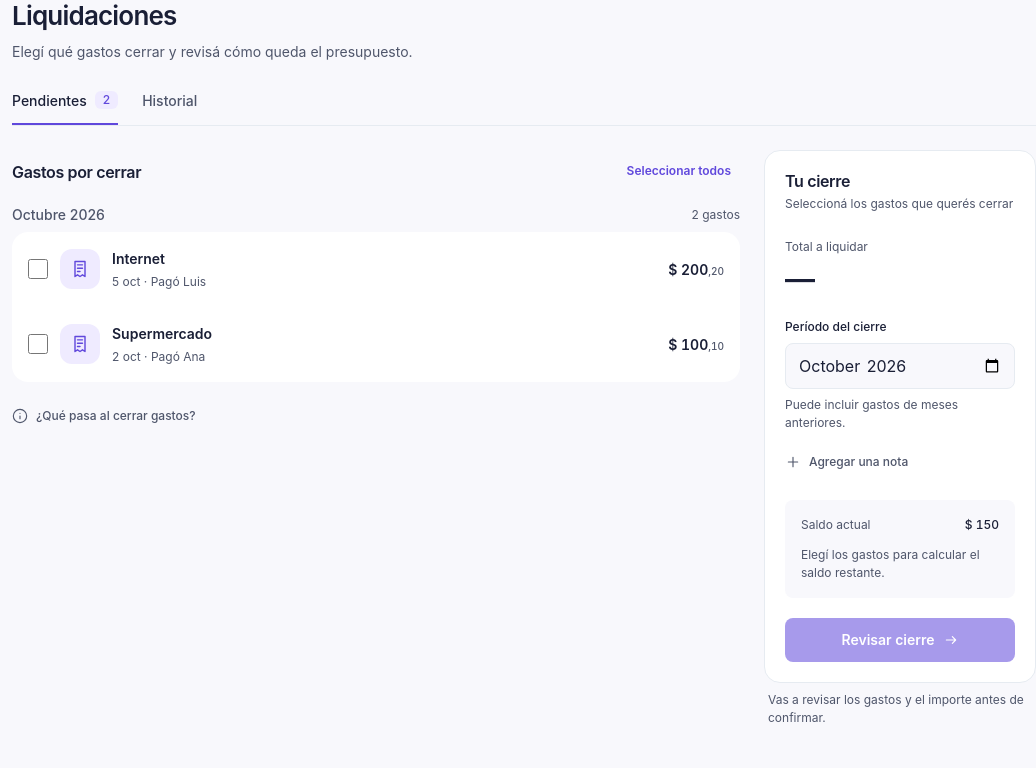
Scenario: SettlementsPage › blocks a close above the budget
The width and height of the screenshot is (1036, 768).
Click the button "Seleccionar todos" at (679, 172), box [618, 150, 740, 194]
(page scrolled)
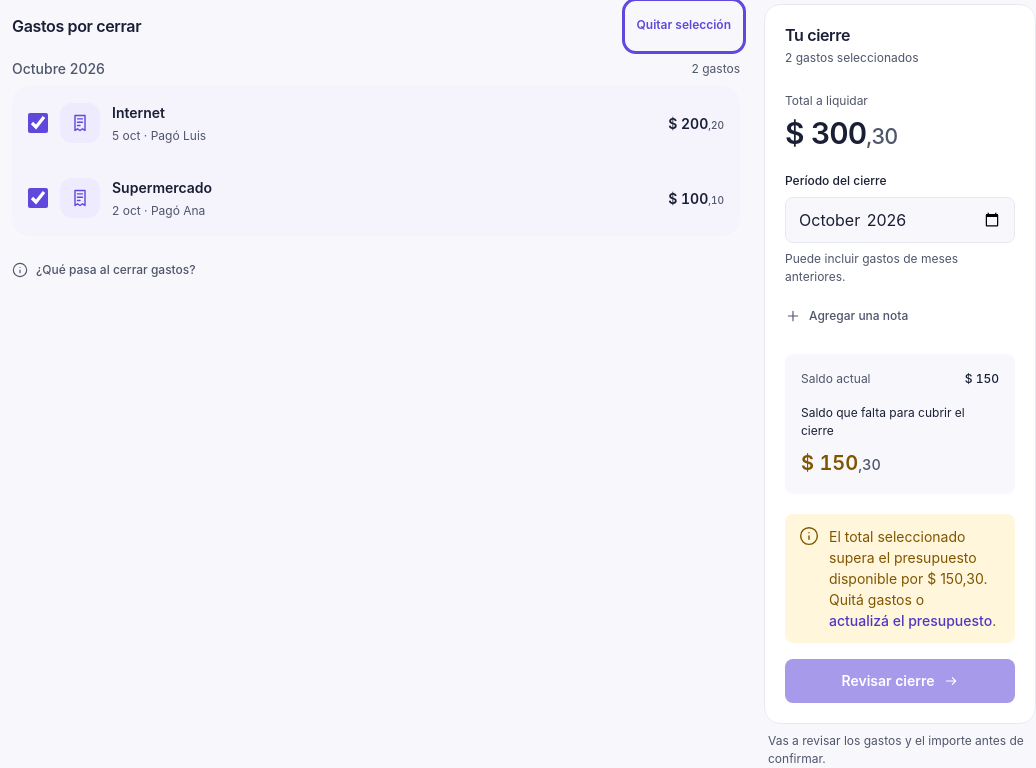
Expected: the button "Revisar cierre" is disabled, [785, 659, 1015, 703]
Expected: the text "supera el presupuesto disponible" is shown, [829, 528, 977, 587]
